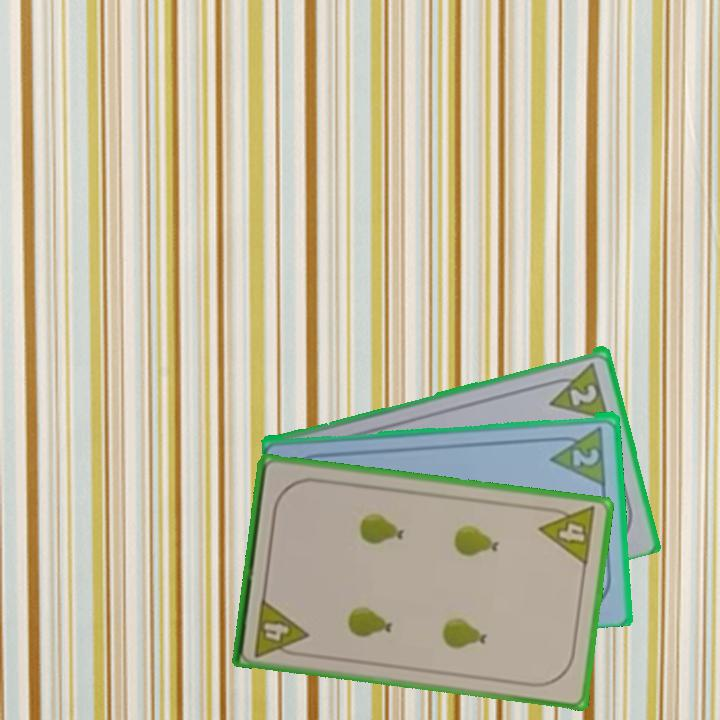2p: (567, 380, 600, 408), (569, 445, 602, 468)
4p: (536, 502, 599, 569), (251, 594, 310, 660)
